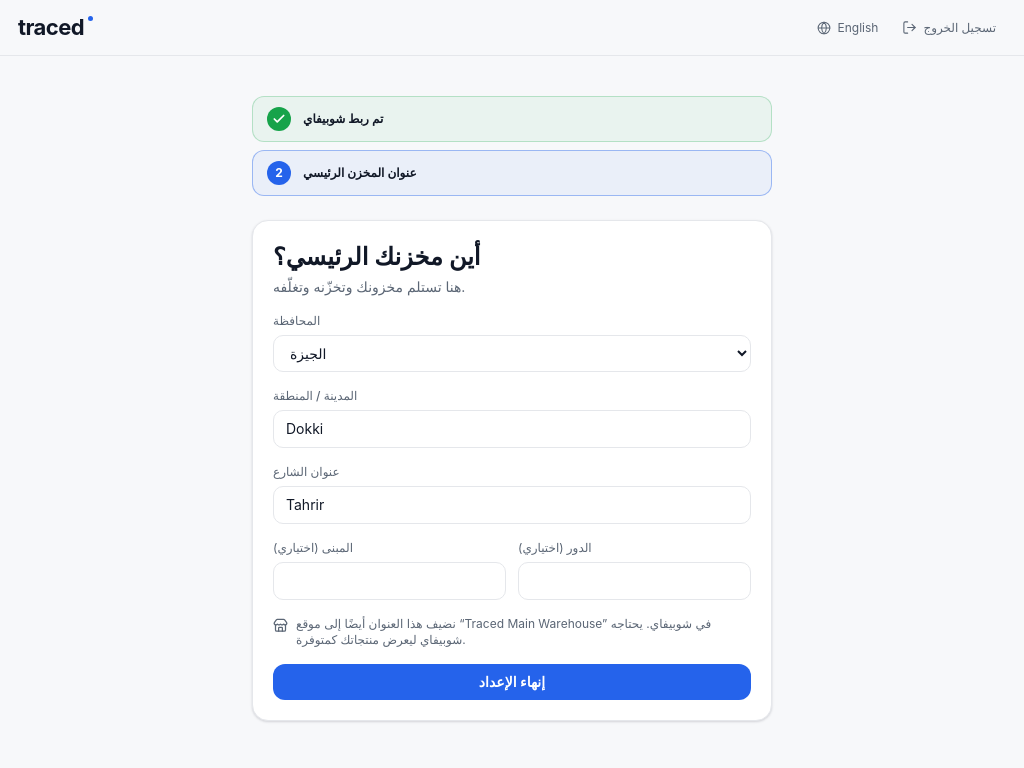
Test: owner gate › og5 a server refusal shows its message in the page language
Expected: the dropdown labelled "المحافظة" shows "الجيزة", left=273, top=335, right=751, bottom=372
Step 1. Click the button "إنهاء الإعداد" → (512, 682), box left=273, top=664, right=751, bottom=700
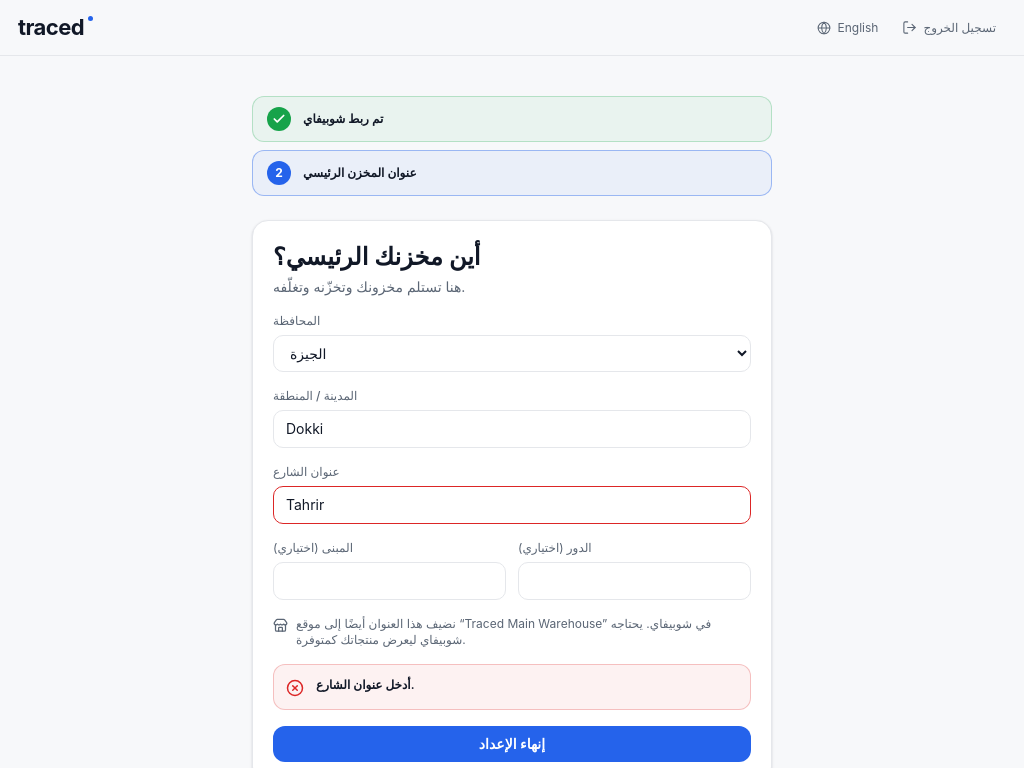
Now the message reads "أدخل عنوان الشارع.", box left=316, top=677, right=414, bottom=692
